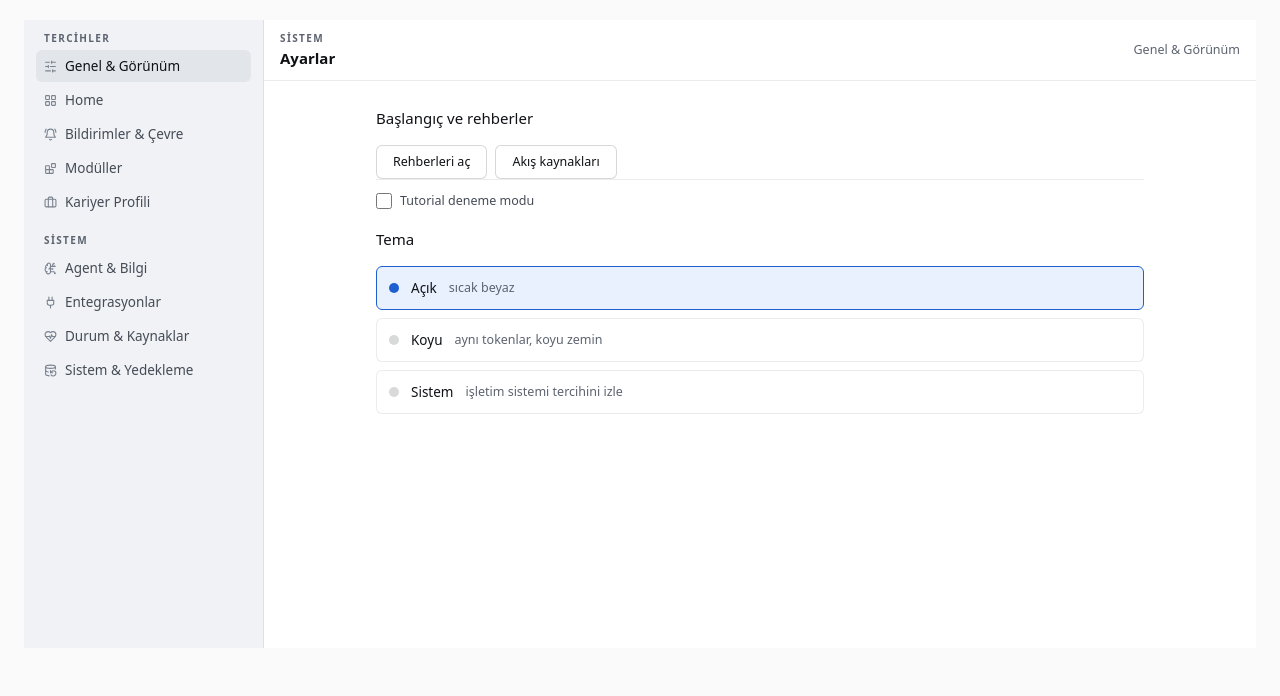
it: SettingsPage teshis ve tehlikeli bolge › ray tercihleri ve sistemi ayirir; teshis Genel sekmesinde yer almaz
This screenshot has width=1280, height=696.
Expected: the heading "Ayarlar" is shown, [280,48,335,68]
Expected: the heading "Tercihler" is shown, [44,31,110,45]
Click the button "Sistem & Yedekleme".
click(144, 370)  # box [36,354,251,386]
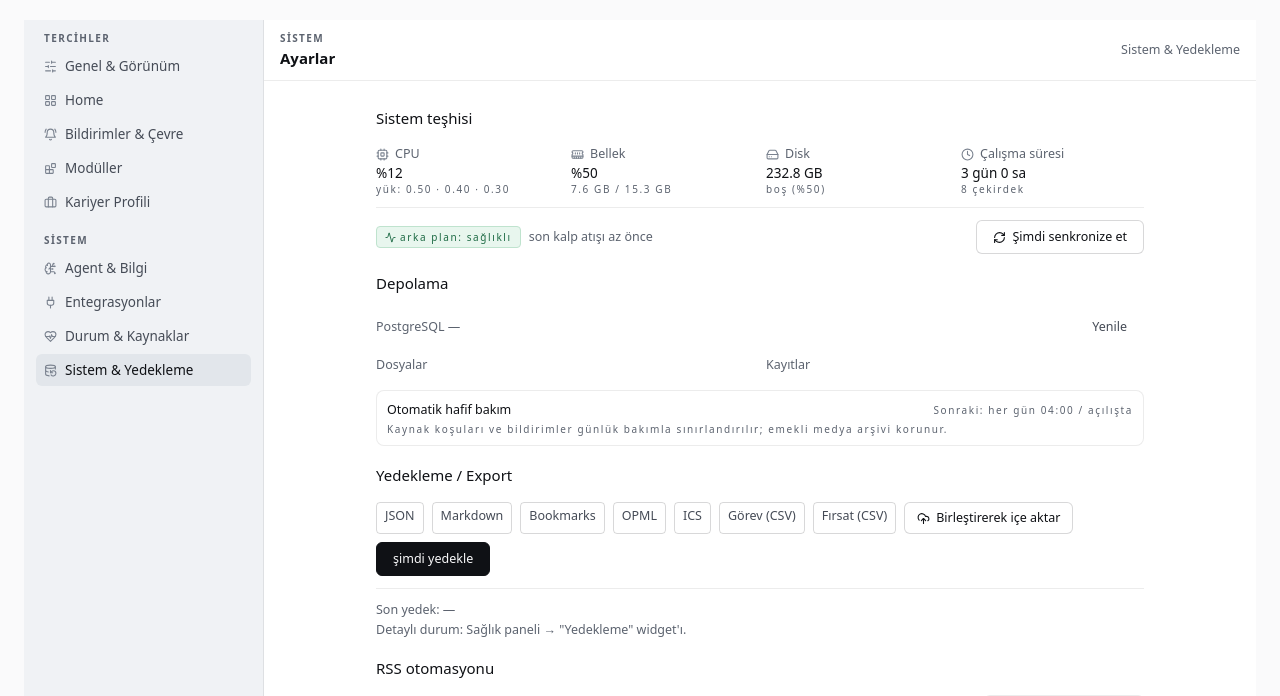
Expected: the text "%12" is shown, [376,164,403,182]
Expected: the heading "Depolama" is shown, [376,273,448,293]
